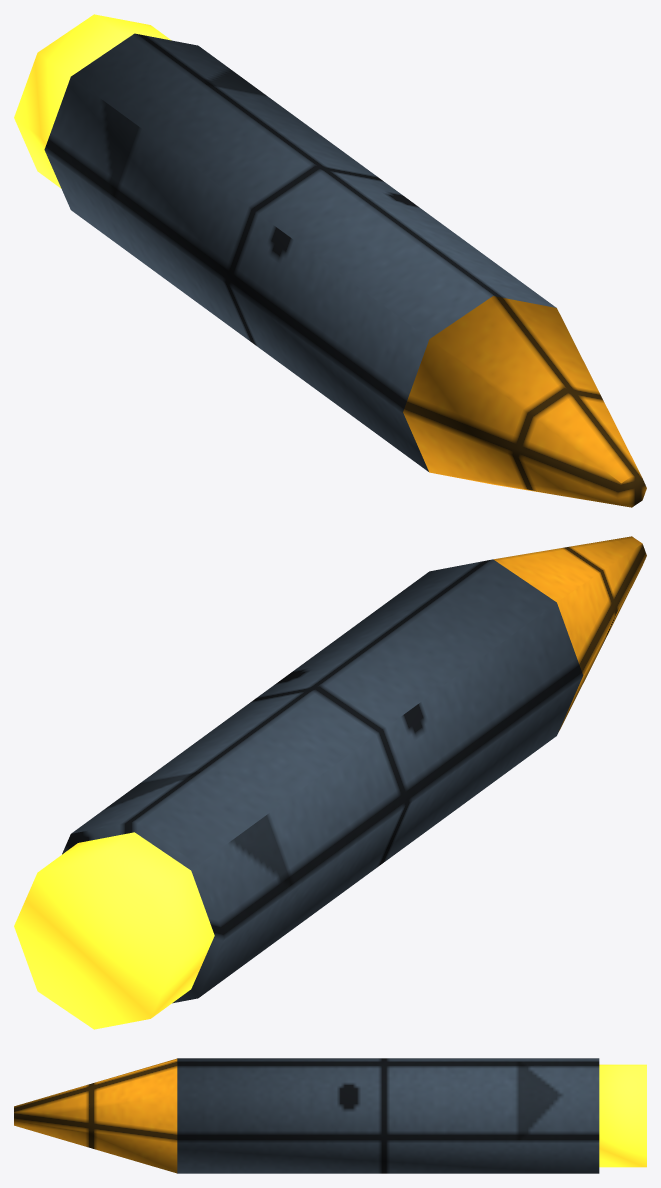
The model's file is cannon.glb.
The picture shows the model from 3 angles, top to bottom: view 1: azimuth 30°, elevation 25°; view 2: azimuth 150°, elevation 25°; view 3: azimuth 270°, elevation 25°; orthographic projection. The views are drawn at different scales.
Visible parts, largest first — view 1: cannon Titanium, cannon cannon-enamel, cannon cannon-emitter; view 2: cannon Titanium, cannon cannon-emitter, cannon cannon-enamel; view 3: cannon Titanium, cannon cannon-enamel, cannon cannon-emitter.
Boxes of the visible parts, left/top/right/bottom form: cannon Titanium: left=44, top=33, right=556, bottom=471; cannon cannon-enamel: left=403, top=296, right=646, bottom=507; cannon cannon-emitter: left=14, top=14, right=171, bottom=188; cannon Titanium: left=62, top=559, right=583, bottom=1003; cannon cannon-emitter: left=14, top=832, right=214, bottom=1029; cannon cannon-enamel: left=493, top=536, right=646, bottom=730; cannon Titanium: left=177, top=1058, right=599, bottom=1173; cannon cannon-enamel: left=14, top=1058, right=177, bottom=1173; cannon cannon-emitter: left=599, top=1064, right=646, bottom=1167.
Bounding box in the file's own units: 0.18 × 0.18 × 0.93.
Materials: 3 (2 with a texture image).
